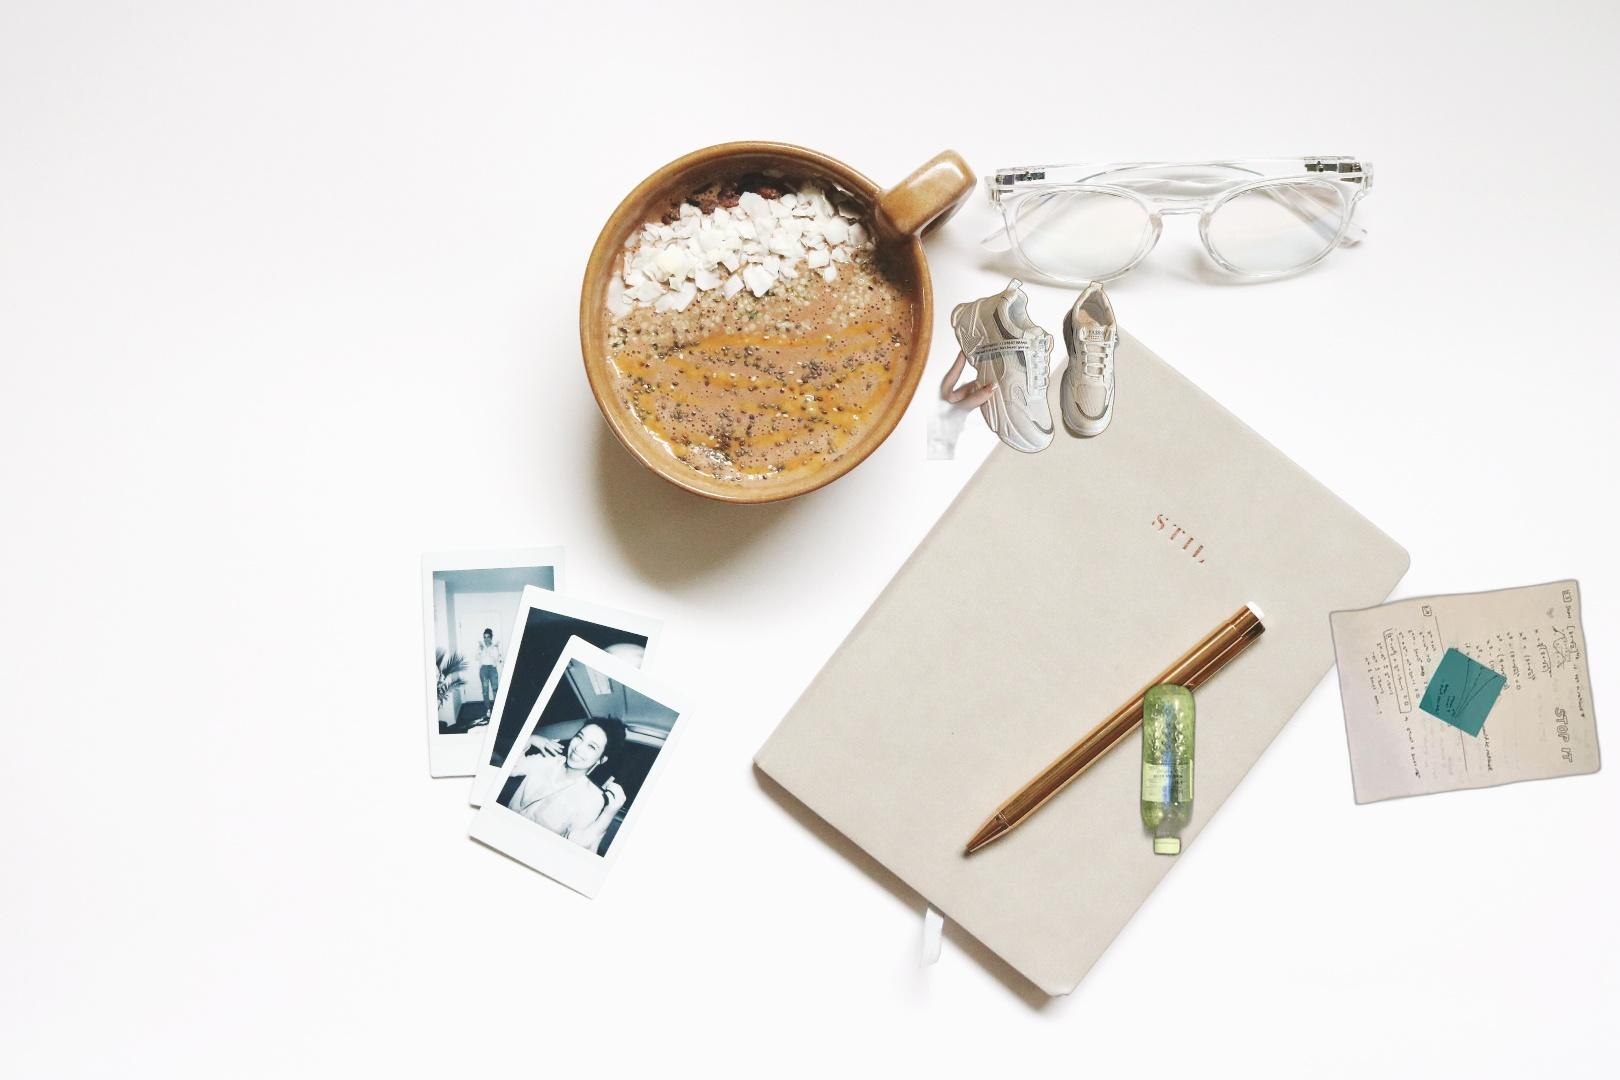paper: (1326, 577, 1606, 809)
plastic-bottles: (1137, 677, 1201, 862)
shoes: (927, 276, 1122, 460)
